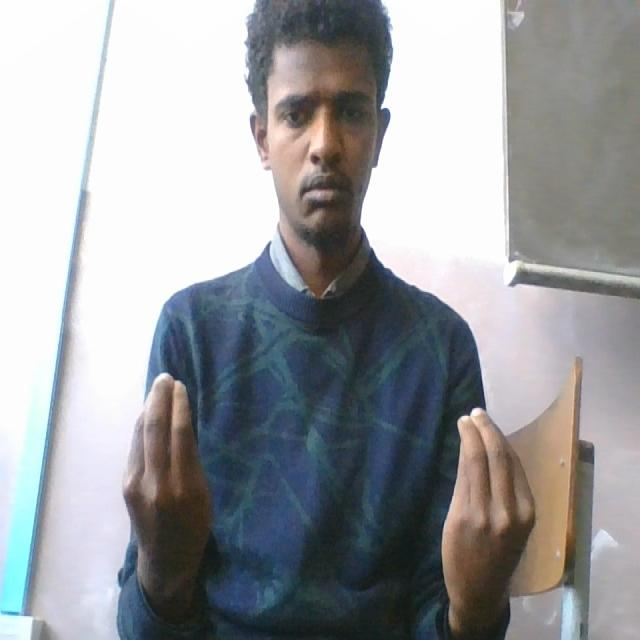tena_ystilgn: (120, 368, 541, 617)
